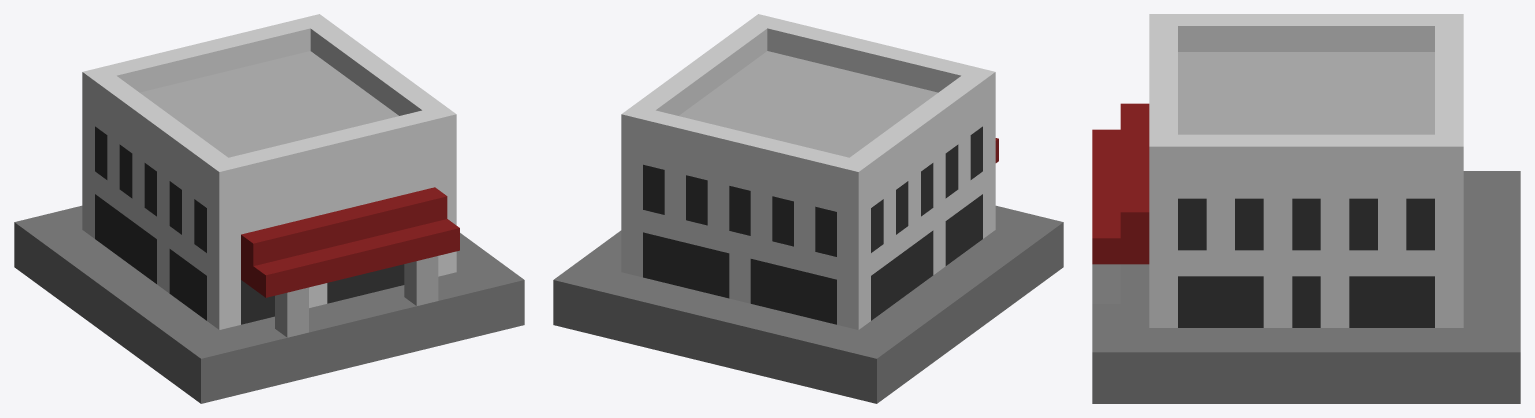
Rendered from Building03.obj.
The picture shows the model from 3 angles, left to right: view 1: azimuth 30°, elevation 25°; view 2: azimuth 150°, elevation 25°; view 3: azimuth 270°, elevation 25°; orthographic projection. The views are drawn at different scales.
Visible parts, largest first — view 1: Building03; view 2: Building03; view 3: Building03.
Part boxes in pixels (box(x1,y1,x2,y2)): Building03: box(14, 14, 524, 403); Building03: box(553, 14, 1063, 403); Building03: box(1092, 14, 1520, 403).
Size of the model in its own units: 1.5 by 0.9 by 1.5.
1 material, 1 textured.
